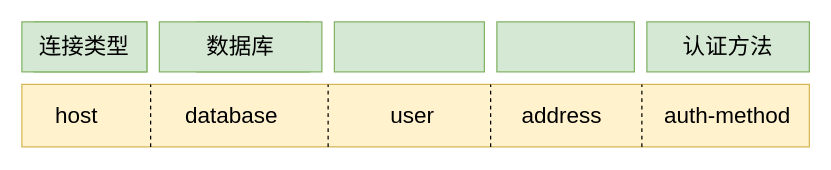
Image size: 831x170. Some labels were removed from this diagram. The centre of each missing label's shape, as x and y in pixels:
"IP 地址" belongs at pixel 565 46.
"用户名" belongs at pixel 408 46.
